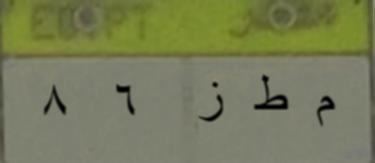6: (104, 78, 147, 122)
8: (30, 76, 78, 126)
Taa: (249, 66, 291, 122)
meem: (306, 88, 339, 138)
zay: (186, 74, 230, 130)
